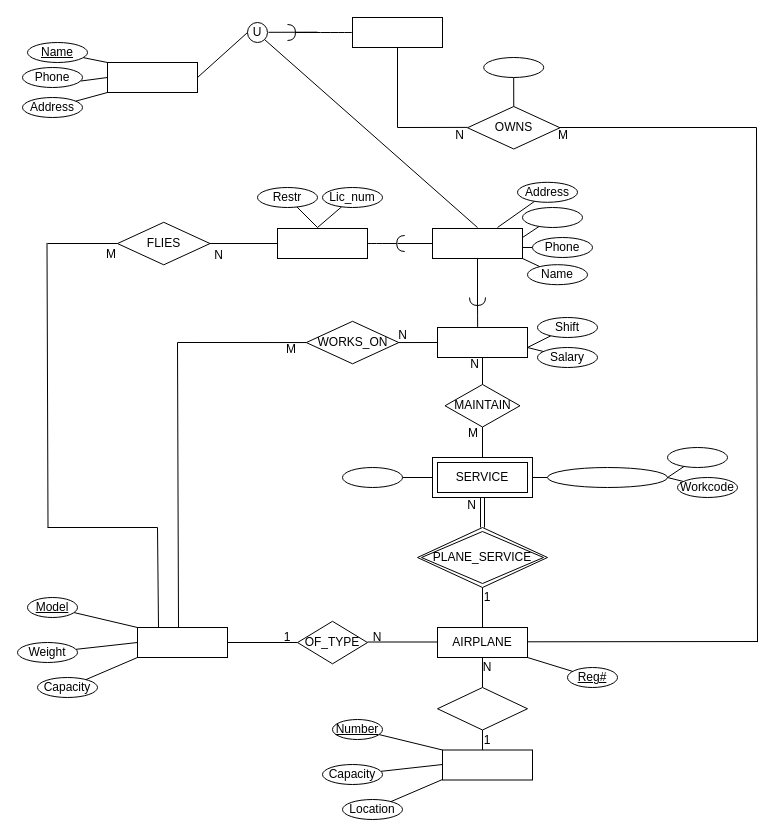
Image size: 776x837. Some labels were removed from this diagram. Here are the shapes that lost their labels. From the top down, the centre of each, then its label:
At [397,32]: "OWNER".
At [152,77]: "CORPORATION".
At [513,67]: "Pdate".
At [552,217]: "Ssn".
At [322,243]: "PILOT".
At [477,243]: "PERSON".
At [482,342]: "EMPLOYEE".
At [372,477]: "Hours".
At [607,477]: "Date/workcode".
At [697,457]: "Date".
At [182,642]: "PLANE_TYPE".
At [482,708]: "STORED_IN".
At [487,764]: "HANGAR".
